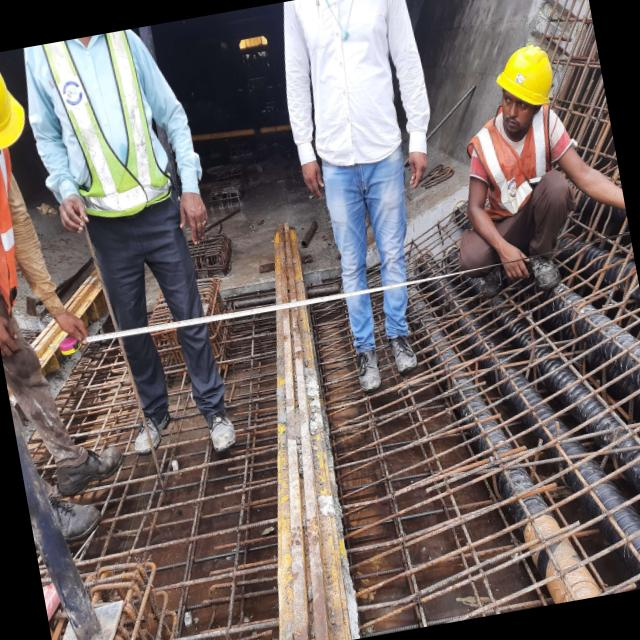cement: (412, 0, 541, 195), (207, 133, 340, 297), (27, 203, 90, 286), (14, 275, 37, 316)
